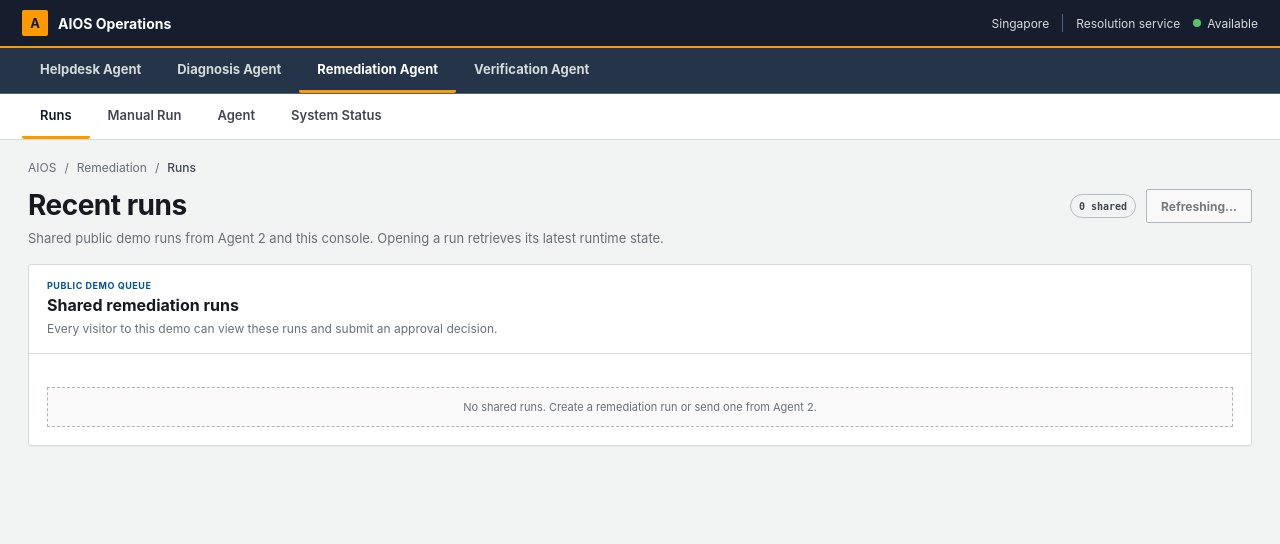
Test case: shared agent shell › shows Verification Agent's runs console in its own tab and keeps it mounted
This screenshot has width=1280, height=544.
Step 1. Click the tab "Verification Agent" → (532, 70), box [456, 48, 607, 93]
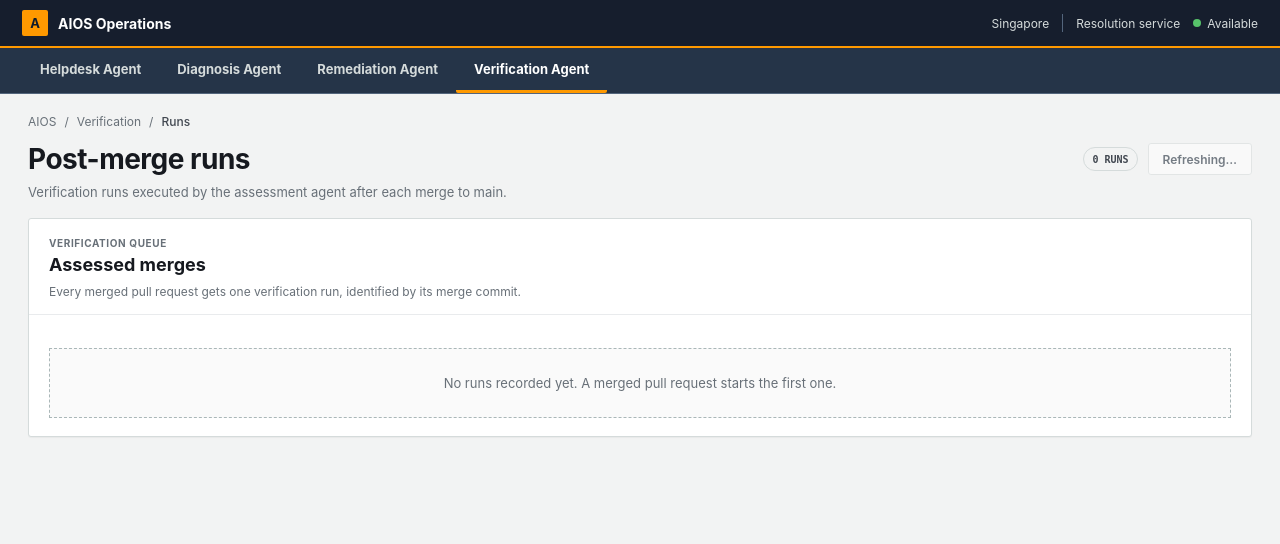
Check: the heading "Post-merge runs" is shown, box [28, 142, 250, 176]
Check: the text "No runs recorded yet" is shown, box [444, 375, 836, 391]
Note: stays mounted (state preserved) while another tab is selected
Step 2. Click the tab "Remediation Agent" → (378, 70), box [299, 48, 456, 93]
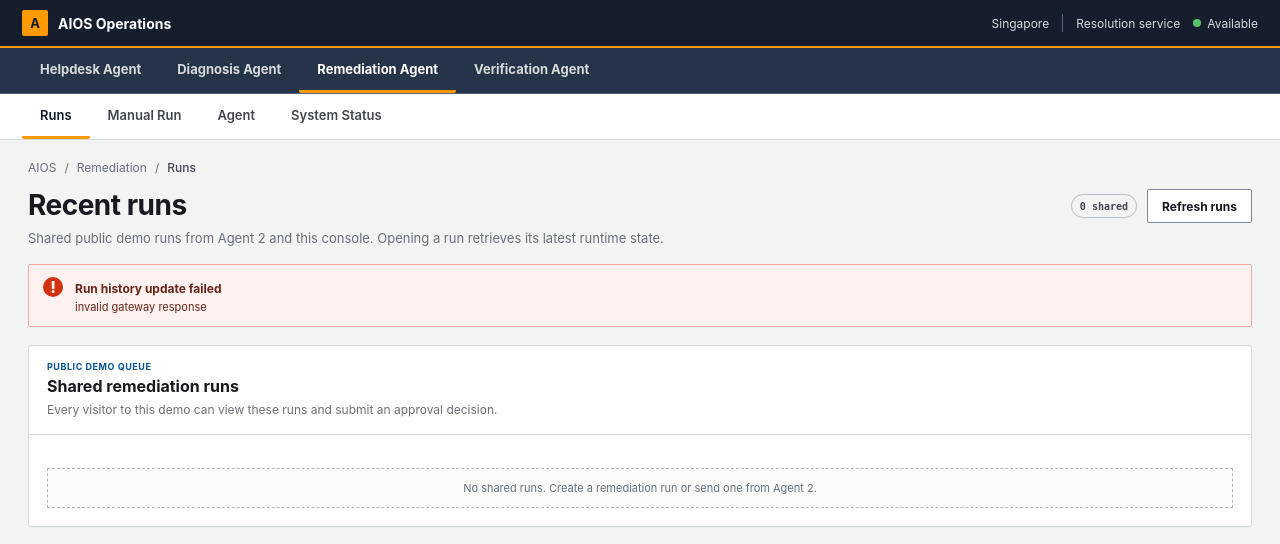
Step 3. Click the tab "Verification Agent" → (532, 70), box [456, 48, 607, 93]
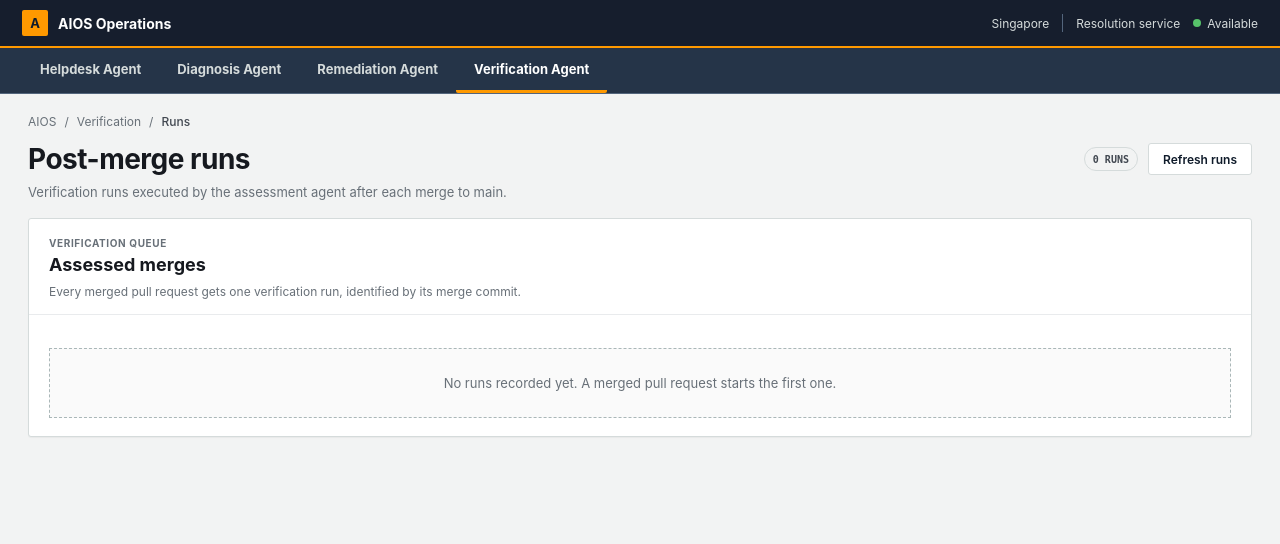
Check: the heading "Post-merge runs" is shown, box [28, 142, 250, 176]
Check: the text "No runs recorded yet" is shown, box [444, 375, 836, 391]
